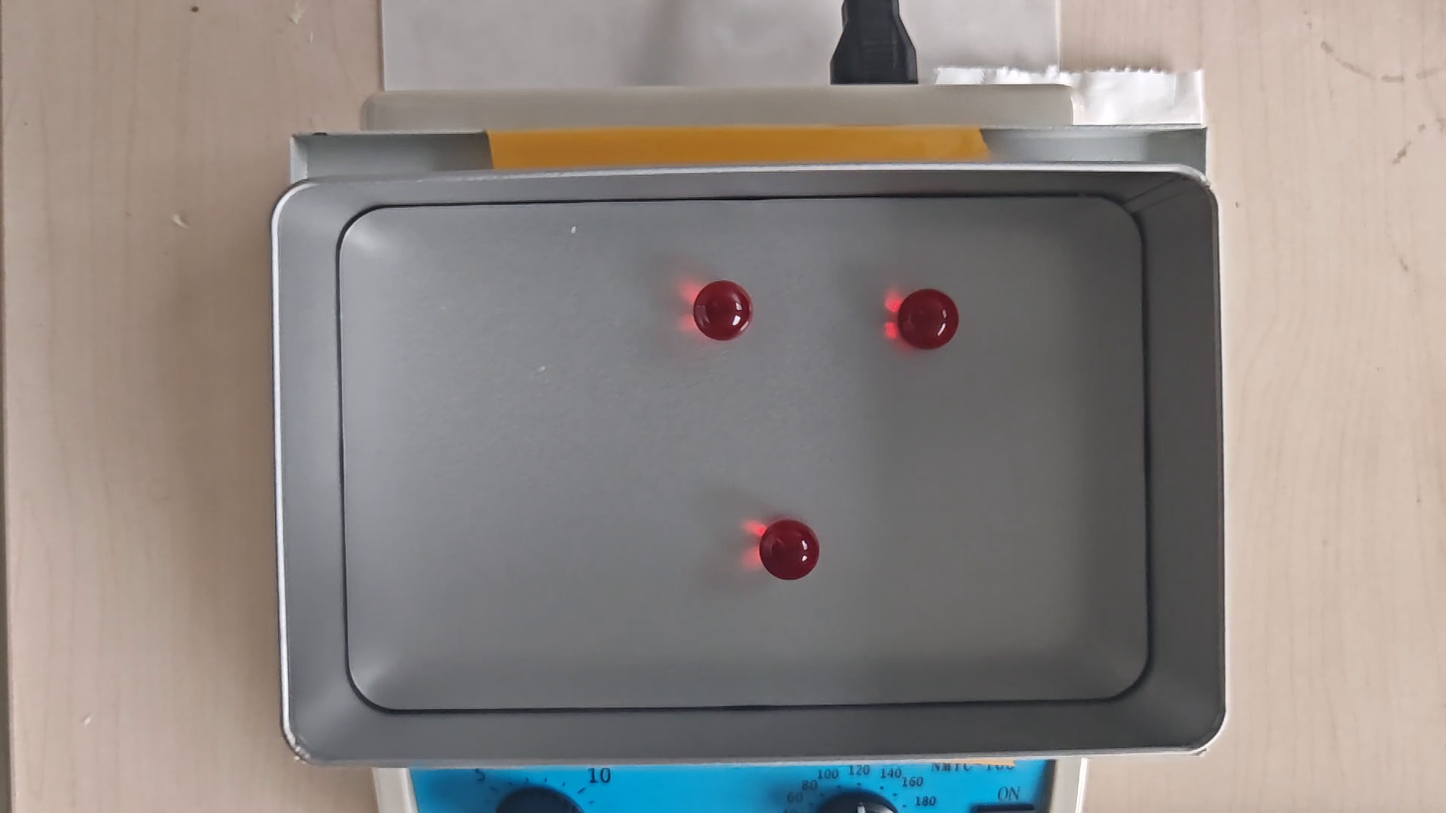ball: (898, 287, 959, 354), (758, 518, 820, 583), (693, 280, 754, 340)
container: (336, 203, 1154, 705)
